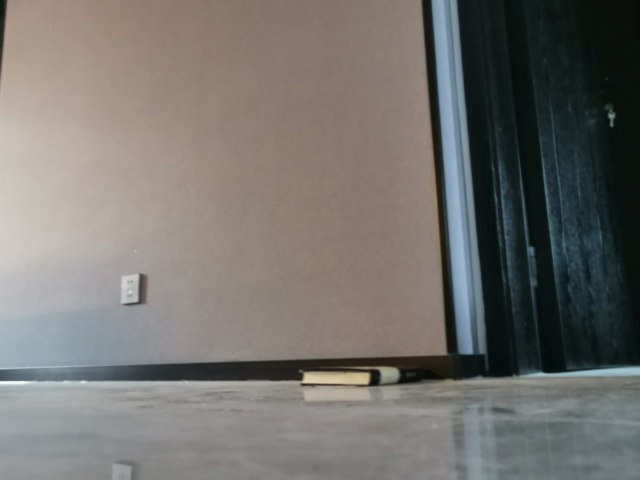book: (297, 363, 429, 389)
